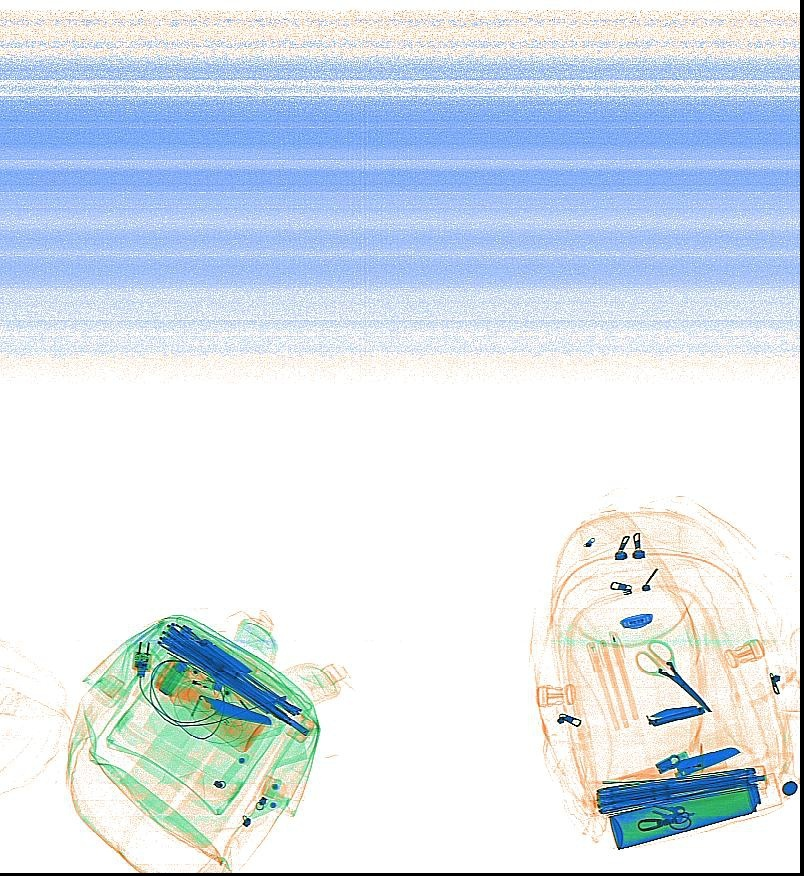knife: (154, 681, 272, 726), (616, 747, 742, 785), (198, 634, 257, 672), (645, 705, 705, 726)
pressure: (607, 772, 783, 851)
scissors: (635, 640, 712, 714)
